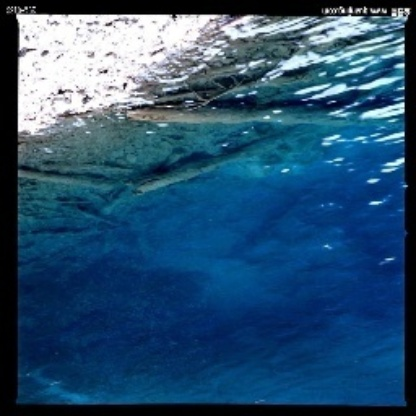branch: (124, 101, 387, 139)
